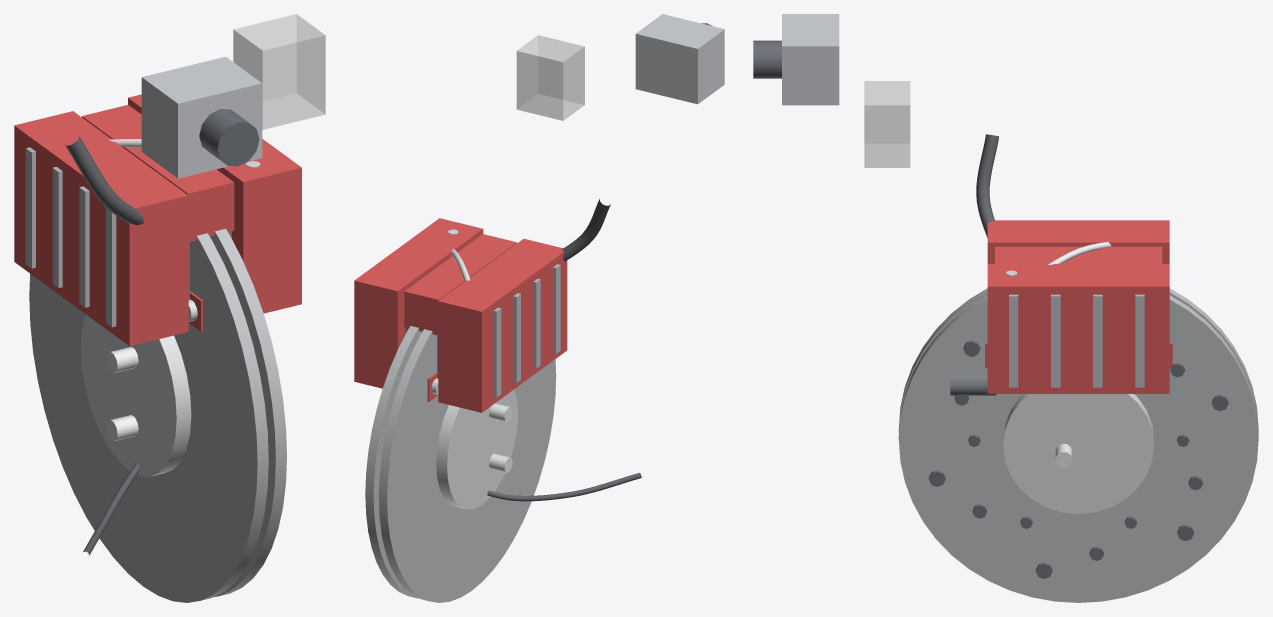
The model's file is rbrakes.glb.
The picture shows the model from 3 angles, left to right: view 1: azimuth 30°, elevation 25°; view 2: azimuth 150°, elevation 25°; view 3: azimuth 270°, elevation 25°; orthographic projection. The views are drawn at different scales.
Visible parts, largest first — view 1: rearRotorLeft_faceI, rearCaliperLeft_inner, rearRotorLeft_hat, absPsmHydraulicUnit_block, rearCaliperLeft_outer, brakeFluidReservoir_tank, rearRotorLeft_faceO, rearCaliperLeft, rearCaliperLeft_bridge, absPsmHydraulicUnit_pump, brakeLines_flex, rearRotorLeft (+1 smaller); view 2: rearRotorLeft_faceI, rearCaliperLeft_inner, rearCaliperLeft_outer, absPsmHydraulicUnit_block, rearRotorLeft_hat, brakeFluidReservoir_tank, rearRotorLeft_faceO, rearCaliperLeft_bridge, rearCaliperLeft, epbActuatorLeft_cable, brakeLines_flex, rearRotorLeft; view 3: rearRotorLeft_faceO, rearCaliperLeft_outer, rearRotorLeft_hat, absPsmHydraulicUnit_block, rearCaliperLeft_inner, brakeFluidReservoir_tank, rearCaliperLeft, rearRotorLeft, rearCaliperLeft_bridge, rearRotorLeft_faceI, brakeLines_flex, absPsmHydraulicUnit_pump.
Boxes of the visible parts, bbox=[...] form: rearRotorLeft_faceI: bbox=[29, 233, 268, 602]; rearCaliperLeft_inner: bbox=[14, 111, 188, 346]; rearRotorLeft_hat: bbox=[80, 314, 191, 476]; absPsmHydraulicUnit_block: bbox=[141, 56, 262, 178]; rearCaliperLeft_outer: bbox=[128, 94, 301, 313]; brakeFluidReservoir_tank: bbox=[233, 14, 325, 129]; rearRotorLeft_faceO: bbox=[210, 229, 286, 596]; rearCaliperLeft: bbox=[25, 147, 116, 327]; rearCaliperLeft_bridge: bbox=[82, 105, 234, 241]; absPsmHydraulicUnit_pump: bbox=[199, 109, 259, 166]; brakeLines_flex: bbox=[65, 136, 143, 225]; rearRotorLeft: bbox=[106, 347, 138, 440]; rearRotorLeft_faceI: bbox=[379, 329, 556, 602]; rearCaliperLeft_inner: bbox=[438, 239, 567, 412]; rearCaliperLeft_outer: bbox=[354, 218, 483, 388]; absPsmHydraulicUnit_block: bbox=[635, 14, 724, 104]; rearRotorLeft_hat: bbox=[436, 389, 517, 509]; brakeFluidReservoir_tank: bbox=[516, 35, 584, 120]; rearRotorLeft_faceO: bbox=[365, 326, 421, 598]; rearCaliperLeft_bridge: bbox=[404, 234, 517, 335]; rearCaliperLeft: bbox=[493, 264, 560, 397]; epbActuatorLeft_cable: bbox=[487, 473, 641, 501]; brakeLines_flex: bbox=[562, 199, 610, 261]; rearRotorLeft: bbox=[489, 403, 512, 472]; rearRotorLeft_faceO: bbox=[898, 295, 1258, 602]; rearCaliperLeft_outer: bbox=[987, 264, 1169, 393]; rearRotorLeft_hat: bbox=[1003, 394, 1154, 513]; absPsmHydraulicUnit_block: bbox=[782, 14, 839, 105]; rearCaliperLeft_inner: bbox=[987, 220, 1169, 263]; brakeFluidReservoir_tank: bbox=[864, 81, 910, 167]; rearCaliperLeft: bbox=[1009, 294, 1144, 387]; rearRotorLeft: bbox=[928, 340, 1228, 578]; rearCaliperLeft_bridge: bbox=[995, 246, 1162, 263]; rearRotorLeft_faceI: bbox=[898, 288, 1258, 433]; brakeLines_flex: bbox=[976, 134, 998, 237]; absPsmHydraulicUnit_pump: bbox=[753, 40, 781, 78].
Bounding box in the file's own units: 1.23 × 2.99 × 2.64.
